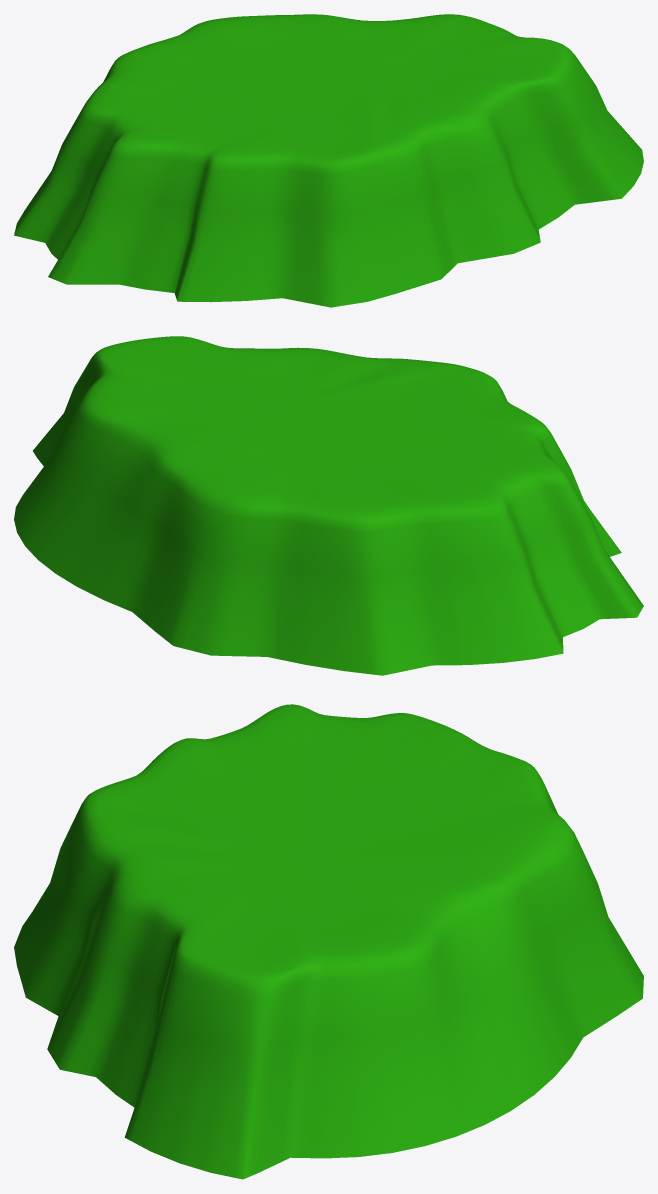
The model's file is Island2.fbx.
The picture shows the model from 3 angles, top to bottom: view 1: azimuth 30°, elevation 25°; view 2: azimuth 150°, elevation 25°; view 3: azimuth 270°, elevation 25°; orthographic projection. The views are drawn at different scales.
Parts seen in each view (by area): view 1: Island; view 2: Island; view 3: Island.
Part boxes in pixels (x1,y1,x2,y2): Island: (14,14,643,307); Island: (14,336,643,675); Island: (14,704,643,1179).
Bounding box in the file's own units: 30.9 × 6.12 × 22.25.
